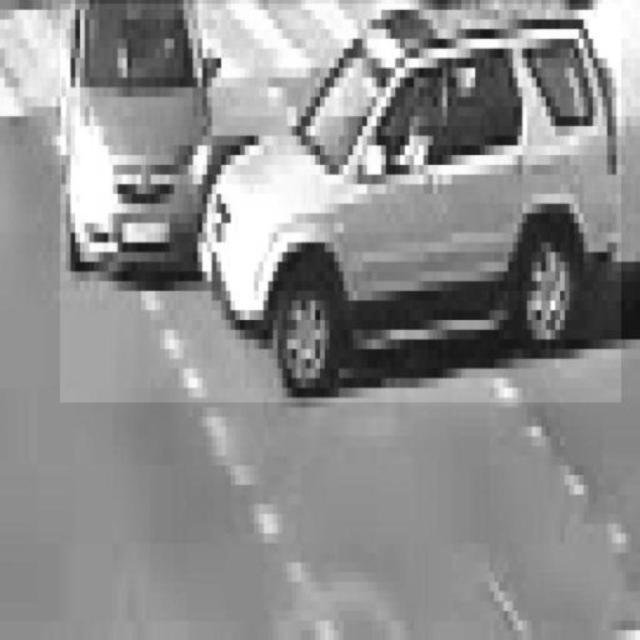accident: (60, 5, 621, 403)
